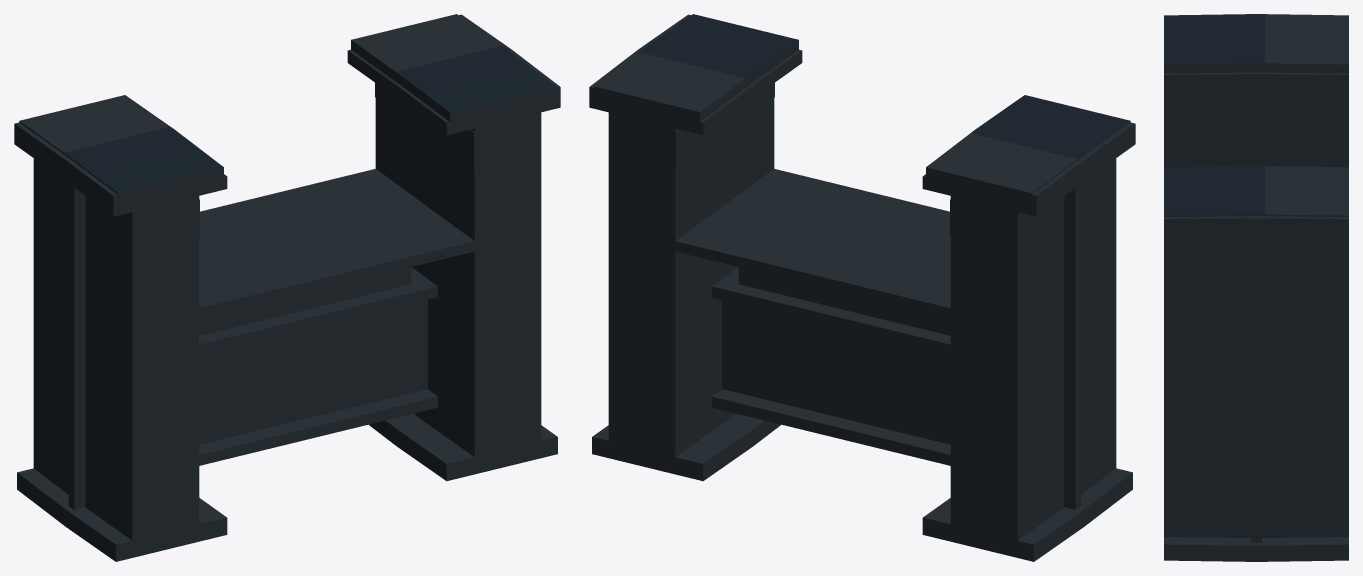
The model's file is steel_guideway.obj.
The picture shows the model from 3 angles, left to right: view 1: azimuth 30°, elevation 25°; view 2: azimuth 150°, elevation 25°; view 3: azimuth 270°, elevation 25°; orthographic projection. The views are drawn at different scales.
Visible parts, largest first — view 1: guideway; view 2: guideway; view 3: guideway.
Boxes of the visible parts, left/top/right/bottom form: guideway: left=14, top=14, right=560, bottom=561; guideway: left=589, top=14, right=1135, bottom=561; guideway: left=1164, top=14, right=1348, bottom=561.
Bounding box in the file's own units: 1.7 × 1.35 × 0.65.
